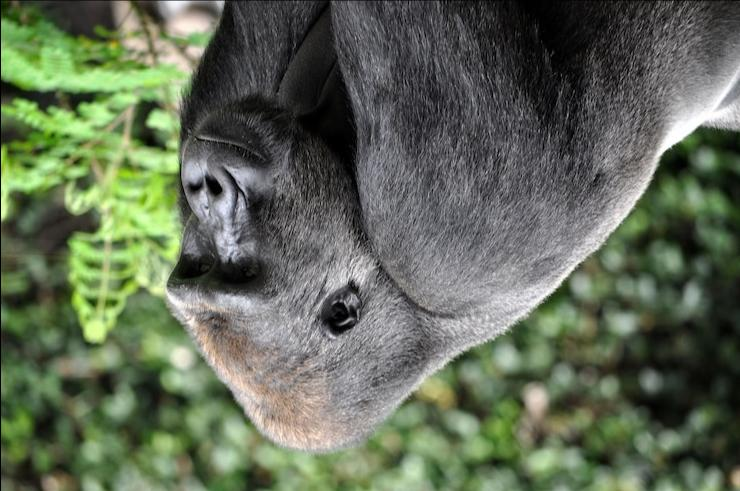gorille_Autres: (125, 0, 738, 491)
